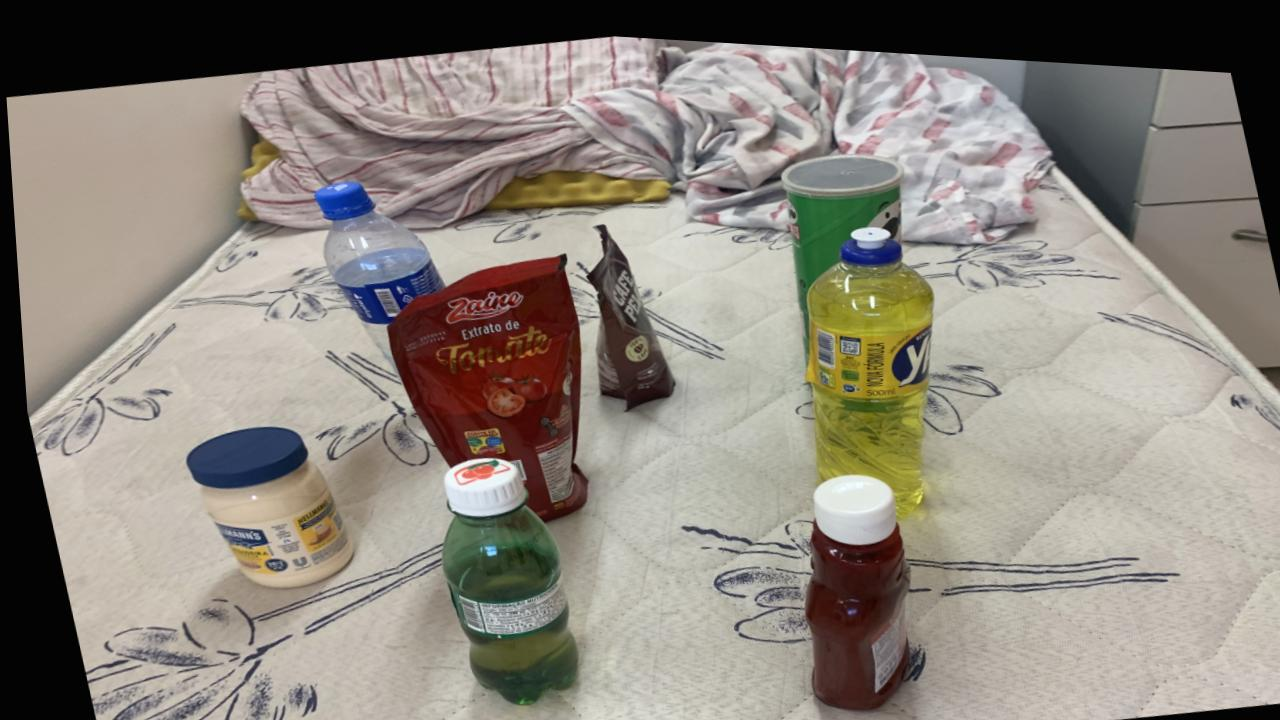Coffee-Pantry_Items: (583, 217, 671, 402)
Detergent-Cleanup_Items: (802, 215, 931, 505)
Guarana-Drinks: (434, 451, 570, 699)
Ketchup-Pantry_Items: (797, 462, 903, 700)
Mayonnaise-Pantry_Items: (179, 423, 347, 585)
Pringles-Snacks: (779, 142, 903, 332)
Tomato_Sauce-Pantry_Items: (383, 248, 582, 514)
Water_Bottle-Drinks: (314, 176, 441, 367)
